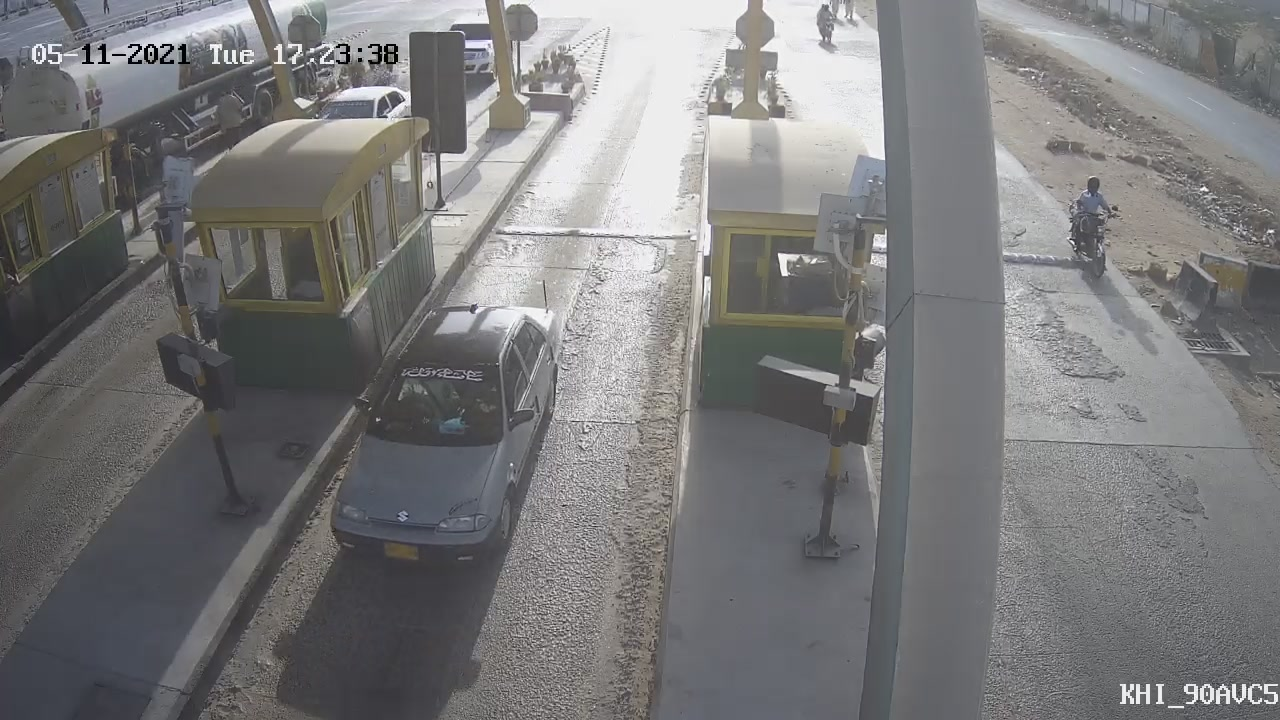F1: (300, 278, 581, 596)
